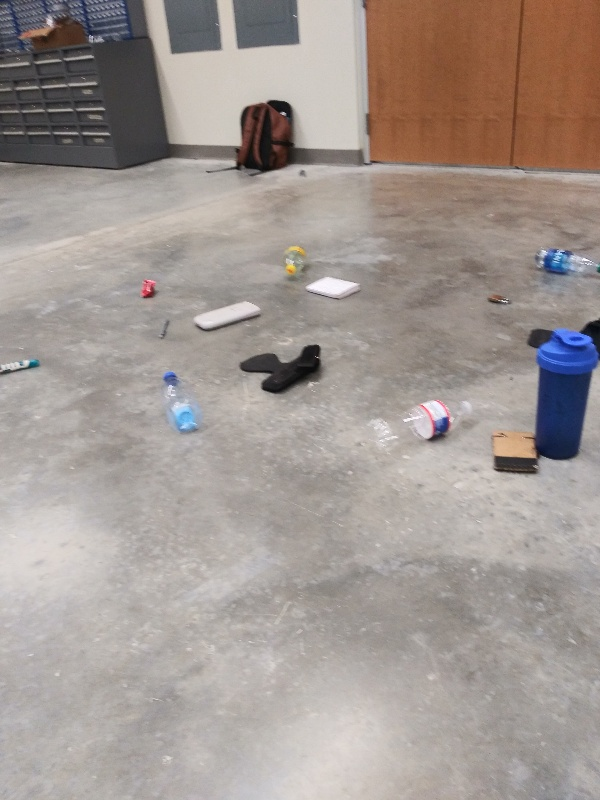bottle: (359, 394, 477, 462), (158, 367, 208, 439), (530, 245, 600, 288), (280, 239, 311, 280)
